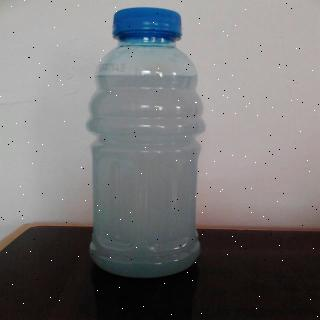Plastic-bottle: (88, 6, 208, 276)
